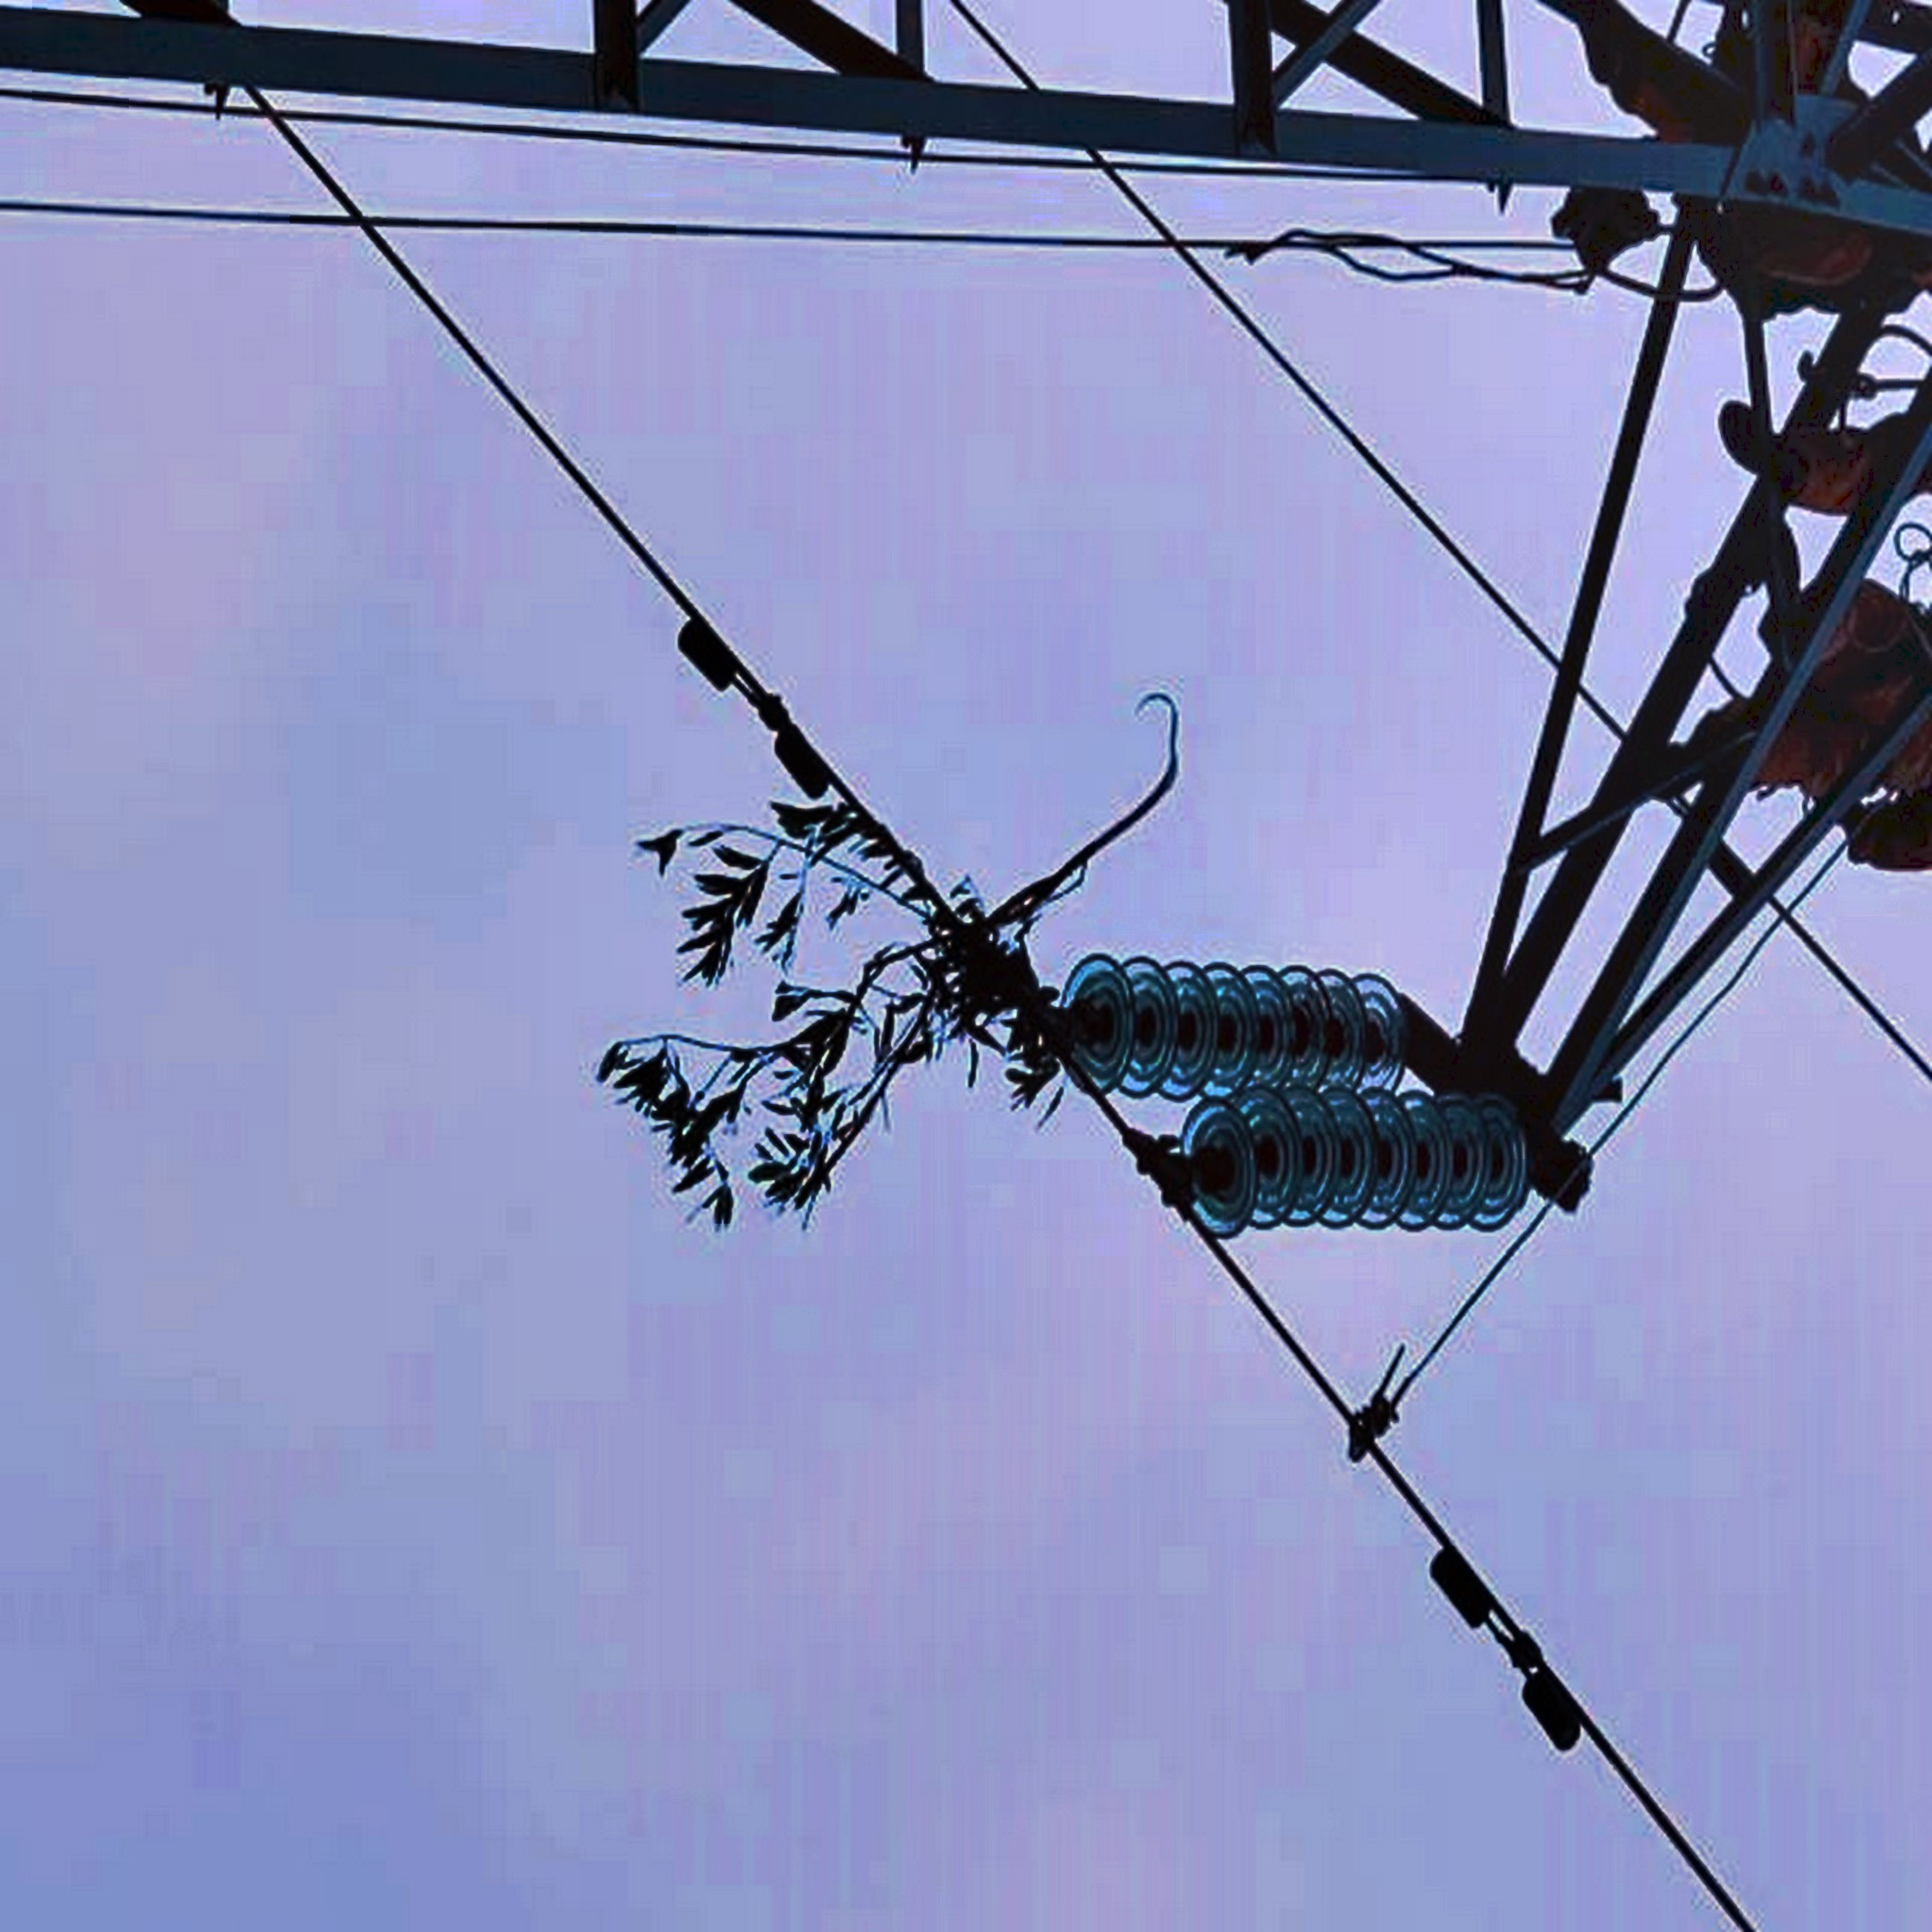wire foreign body: (543, 722, 1088, 1261)
